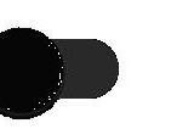Switch: (1, 1, 176, 139)
